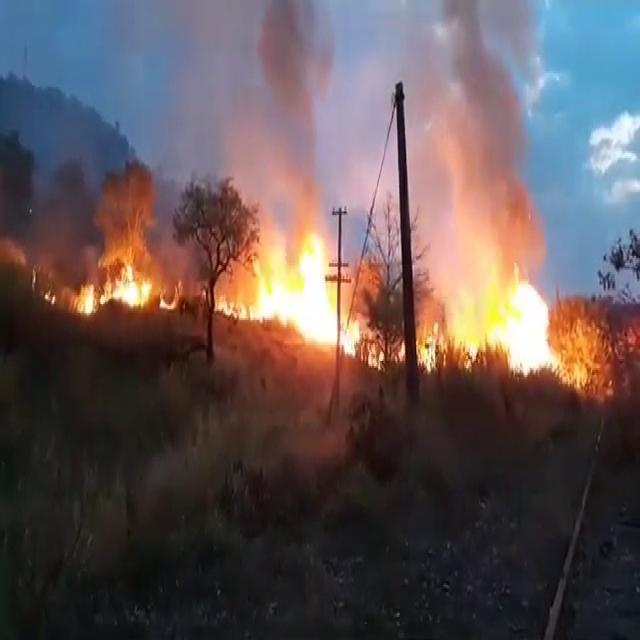Fire: (214, 231, 367, 350), (459, 270, 566, 380), (77, 262, 159, 318)
Smoke: (417, 0, 554, 274), (212, 0, 338, 209)
